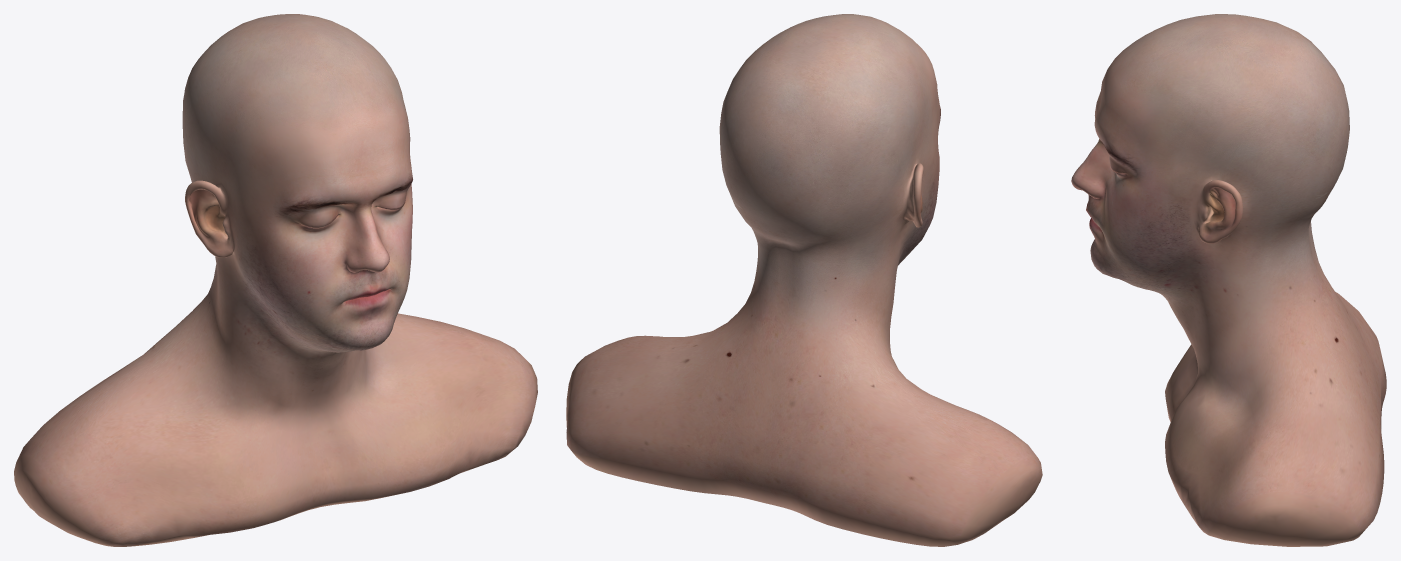
Rendered from head.gltf.
3 views of the same model, side by side, from view 1: azimuth 30°, elevation 25°; view 2: azimuth 150°, elevation 25°; view 3: azimuth 270°, elevation 25° (orthographic). The views are drawn at different scales.
Visible parts, largest first — view 1: head; view 2: head; view 3: head.
Boxes of the visible parts, x1,y1,x2,y2 form: head: (14, 14, 537, 546); head: (566, 14, 1042, 546); head: (1071, 14, 1386, 546).
Size of the model in its own units: 0.4533 by 0.4211 by 0.2746.
1 material, 1 textured.
